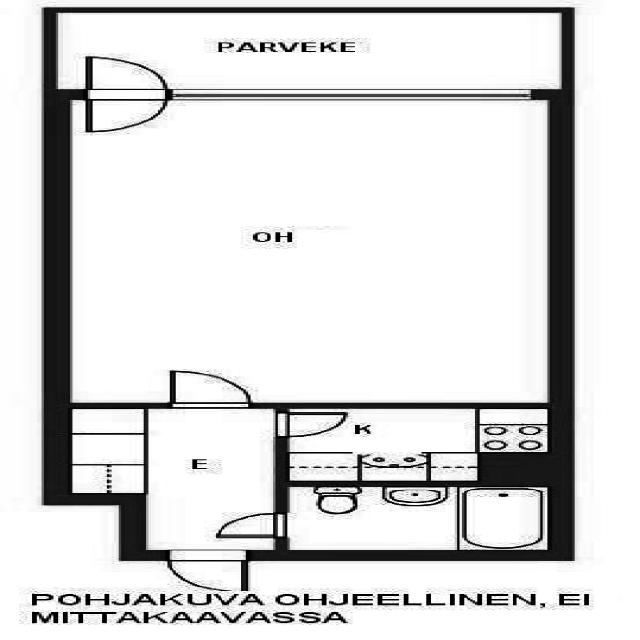door: (77, 54, 170, 133), (157, 367, 267, 409), (163, 553, 247, 592), (268, 410, 360, 440), (210, 511, 295, 541)
window: (278, 482, 556, 558), (175, 84, 540, 105)
zone: (72, 92, 554, 403), (274, 482, 560, 557), (146, 404, 281, 556), (284, 407, 556, 482), (166, 554, 251, 593)
